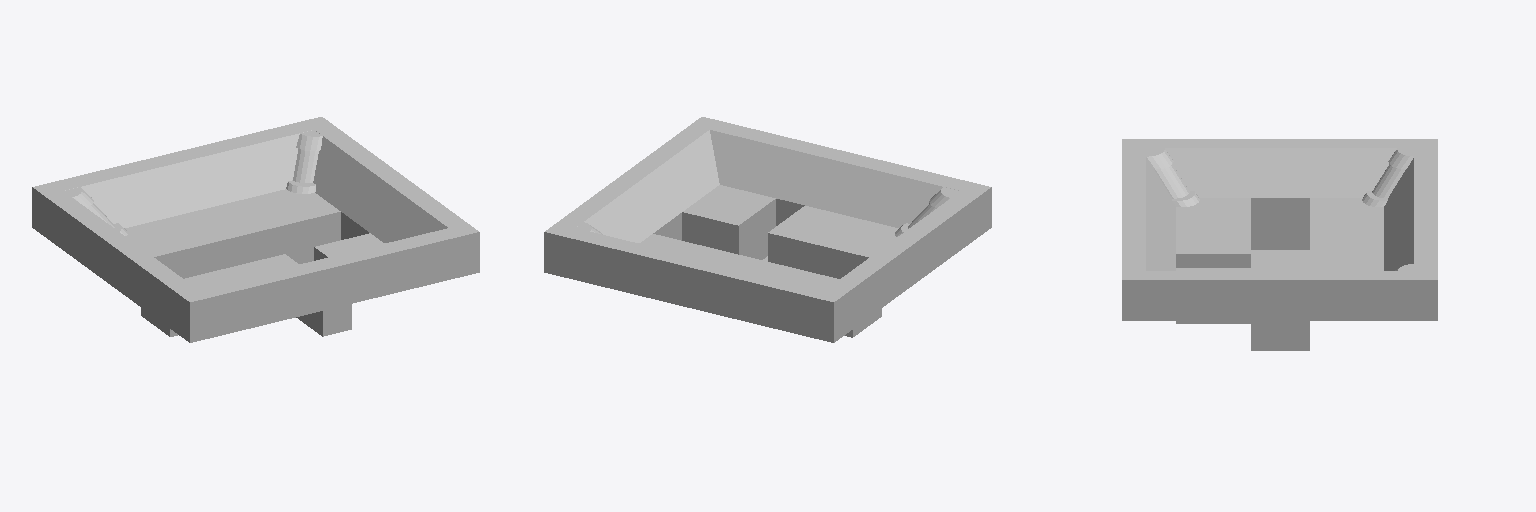
The model's file is lvl_5.obj.
The picture shows the model from 3 angles: view 1: azimuth 30°, elevation 25°; view 2: azimuth 150°, elevation 25°; view 3: azimuth 270°, elevation 25°; orthographic projection.
Parts seen in each view (by area): view 1: lvl5; view 2: lvl5; view 3: lvl5.
Part boxes in pixels (x1,y1,x2,y2): lvl5: (32, 117, 479, 342); lvl5: (544, 117, 991, 342); lvl5: (1122, 139, 1437, 350).
Bounding box in the file's own units: 13.36 × 4.1 × 12.6.